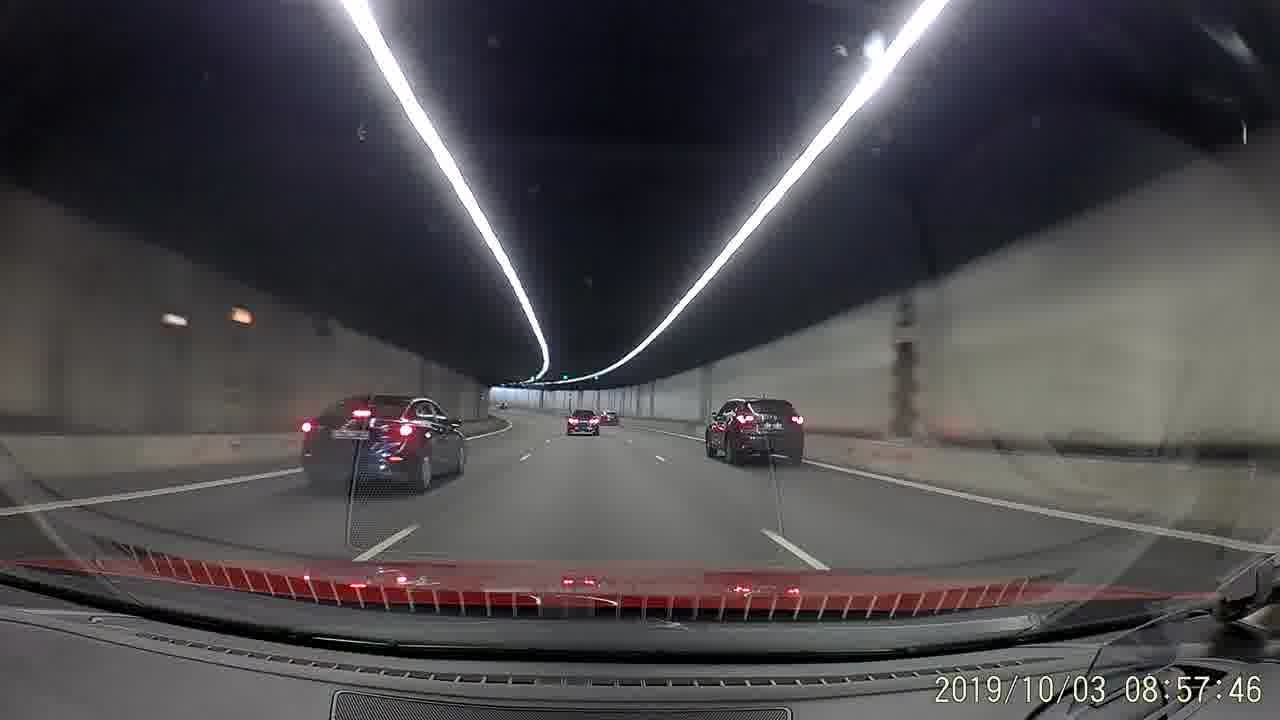car: (297, 386, 469, 498), (698, 393, 805, 470), (564, 406, 602, 438), (598, 408, 619, 426)
